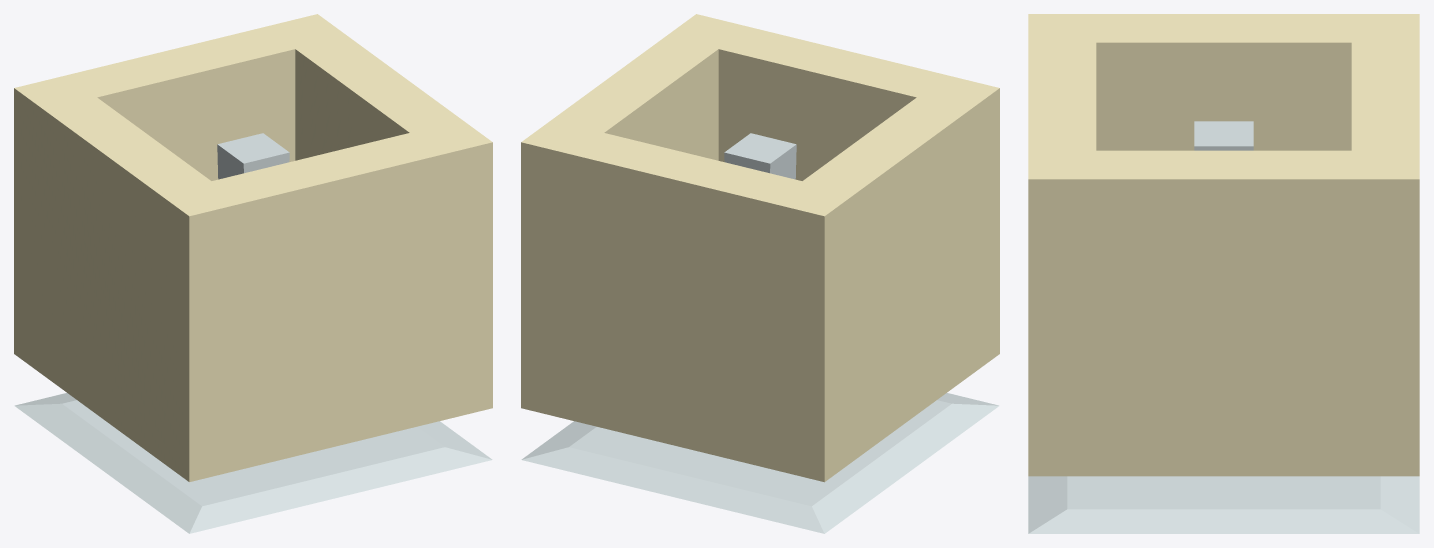
The model's file is kn-lamp-square-floor.glb.
3 views of the same model, side by side, from view 1: azimuth 30°, elevation 25°; view 2: azimuth 150°, elevation 25°; view 3: azimuth 270°, elevation 25° (orthographic). The views are drawn at different scales.
Visible parts, largest first — view 1: lampSquareFloor(Clone); view 2: lampSquareFloor(Clone); view 3: lampSquareFloor(Clone).
Part boxes in pixels (box(x1,y1,x2,y2)): lampSquareFloor(Clone): box(14, 14, 492, 533); lampSquareFloor(Clone): box(521, 14, 999, 533); lampSquareFloor(Clone): box(1028, 14, 1419, 533).
Size of the model in its own units: 1 by 1 by 1.
